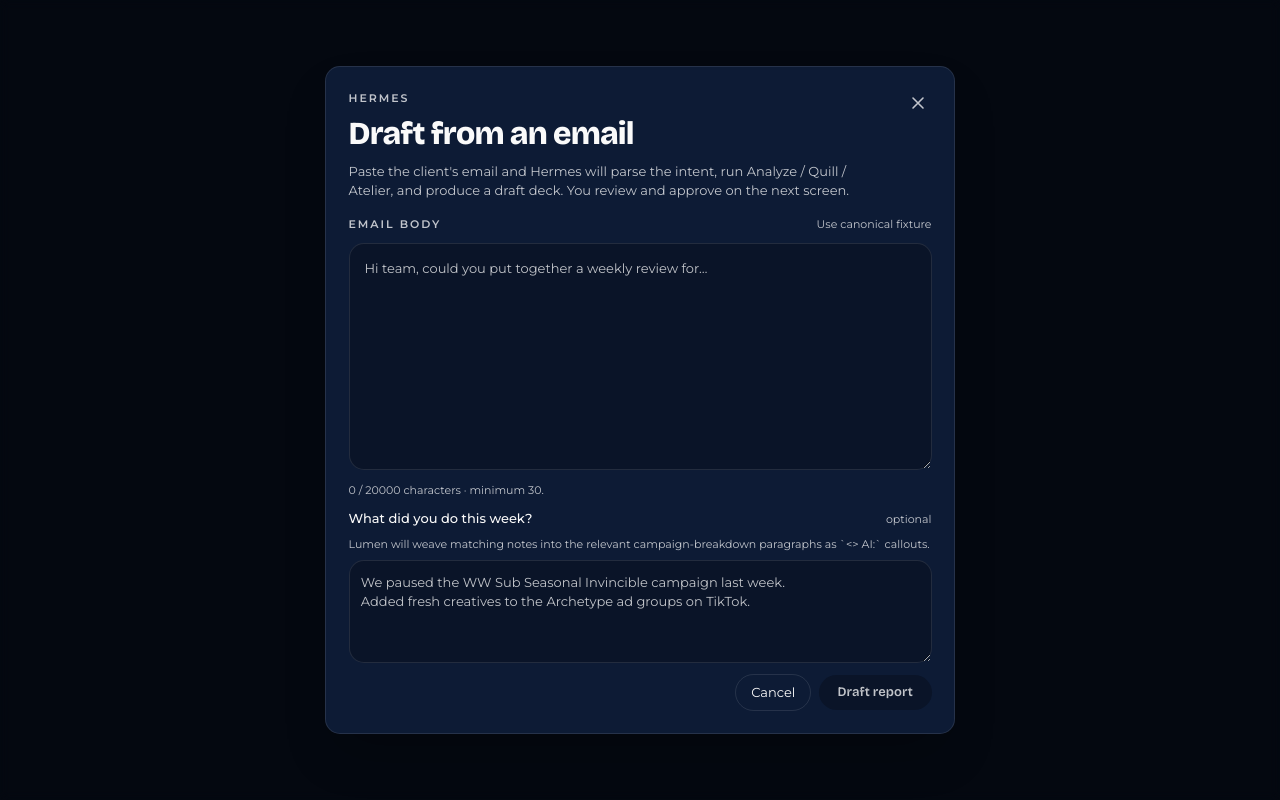
Test: DraftFromEmailModal › submit button is gated by min length
This screenshot has width=1280, height=800.
Expected: the button "Draft report" is disabled, [819,675,932,710]
In the text box labelled "Email body": (640, 357) [348,243,932,470], type "Hi team, please send us a weekly review for GlobalComix on Meta."
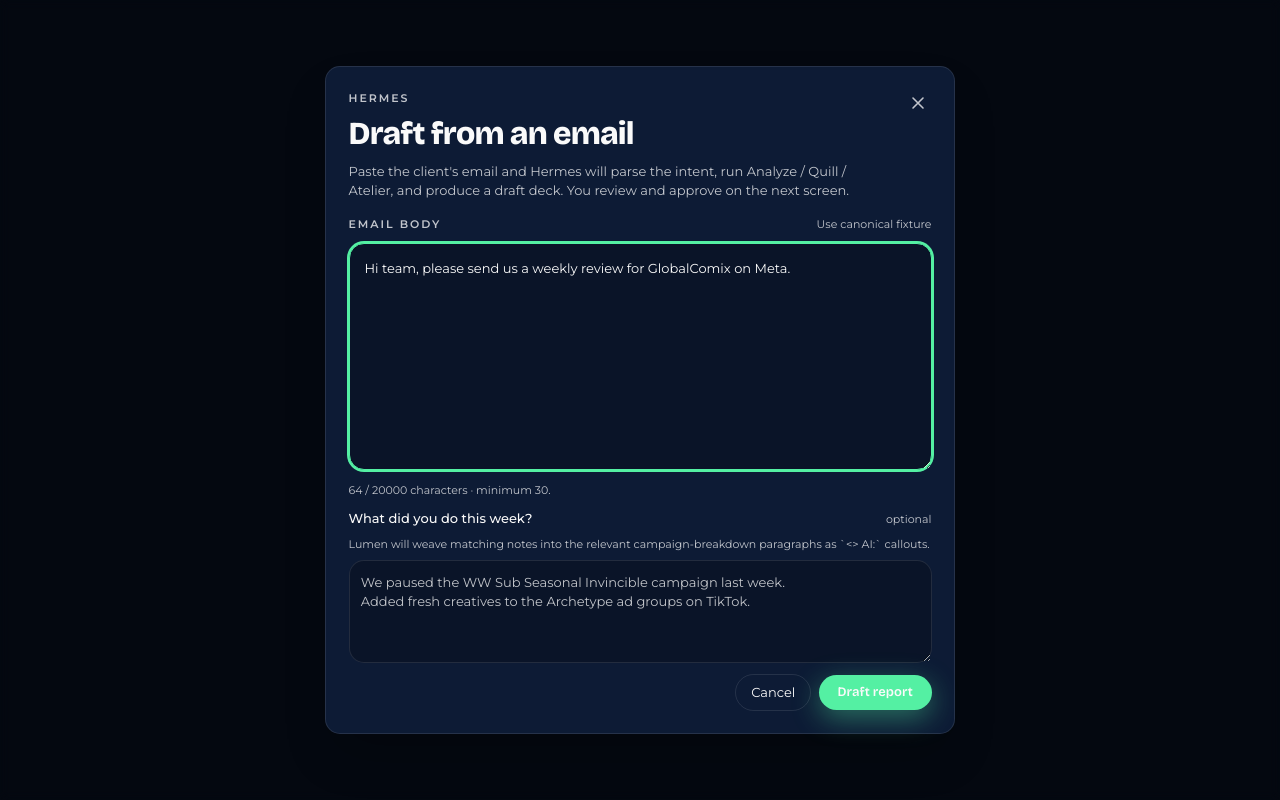
Result: the button "Draft report" is enabled at [819,675,932,710]
